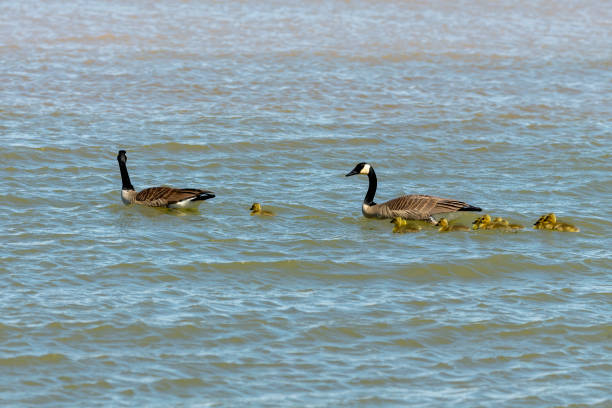goose: (340, 160, 485, 225), (110, 146, 222, 217)
